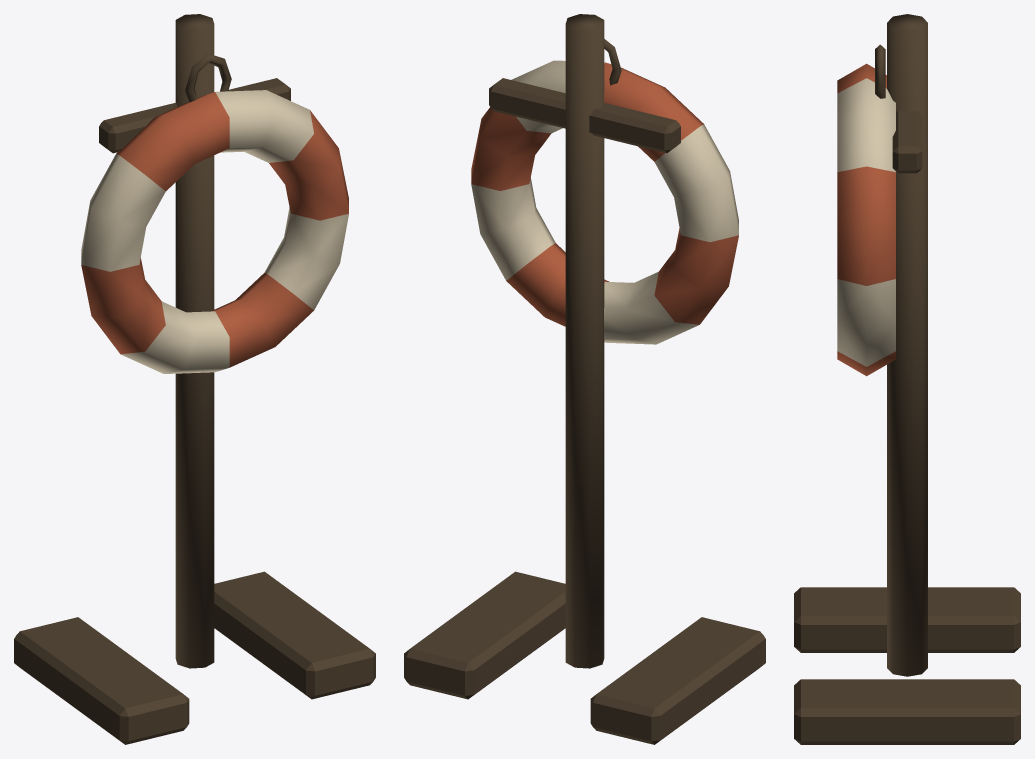
Rendered from lifebuoy_stand.glb.
3 renders of one model, left to right at view 1: azimuth 30°, elevation 25°; view 2: azimuth 150°, elevation 25°; view 3: azimuth 270°, elevation 25°, orthographic.
Visible parts, largest first — view 1: lifebuoy_stand; view 2: lifebuoy_stand; view 3: lifebuoy_stand.
Boxes of the visible parts, <box> form: lifebuoy_stand: <box>14,14,375,744</box>; lifebuoy_stand: <box>404,14,765,744</box>; lifebuoy_stand: <box>794,14,1020,744</box>.
Bounding box in the file's own units: 0.69 × 1.61 × 0.5.
